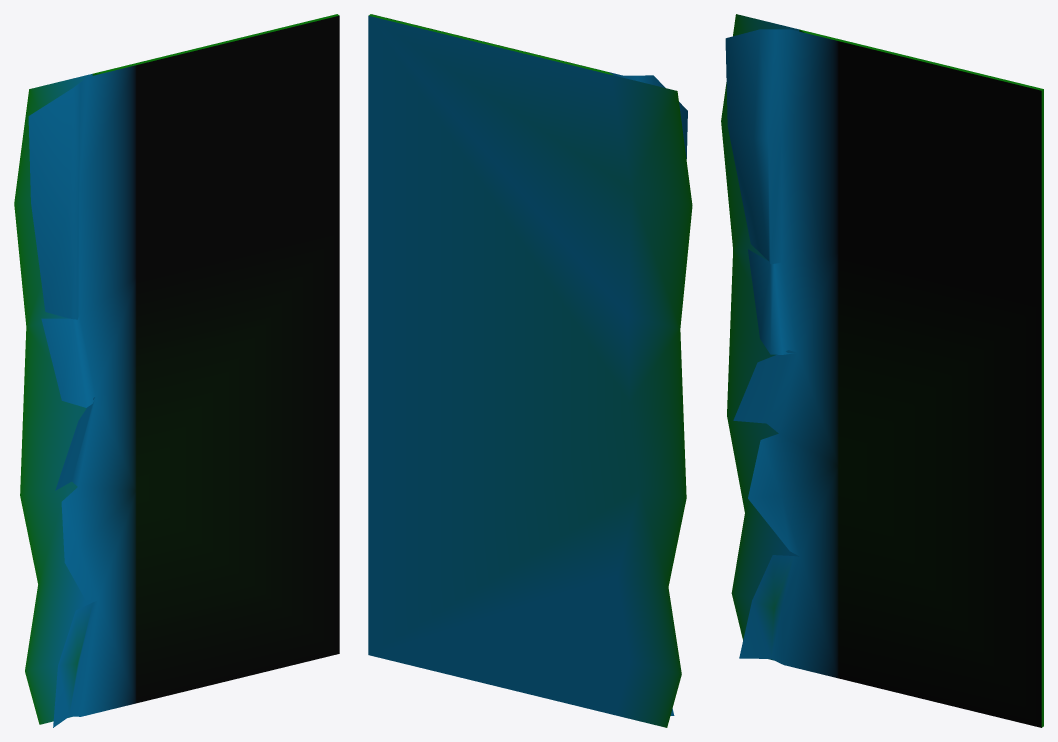
The model's file is DBK_Drywall_Side_B_Single_Mirror.fbx.
3 renders of one model, left to right at view 1: azimuth 30°, elevation 25°; view 2: azimuth 150°, elevation 25°; view 3: azimuth 330°, elevation 25°, orthographic.
Parts seen in each view (by area): view 1: DBK_Drywall_Side_B_Single_Mirror; view 2: DBK_Drywall_Side_B_Single_Mirror; view 3: DBK_Drywall_Side_B_Single_Mirror.
Part boxes in pixels (x1,y1,x2,y2): DBK_Drywall_Side_B_Single_Mirror: (14, 14, 339, 727); DBK_Drywall_Side_B_Single_Mirror: (368, 14, 692, 727); DBK_Drywall_Side_B_Single_Mirror: (721, 14, 1043, 727).
Size of what is drawn, in the model's own units: 159 by 300 by 12.37.
